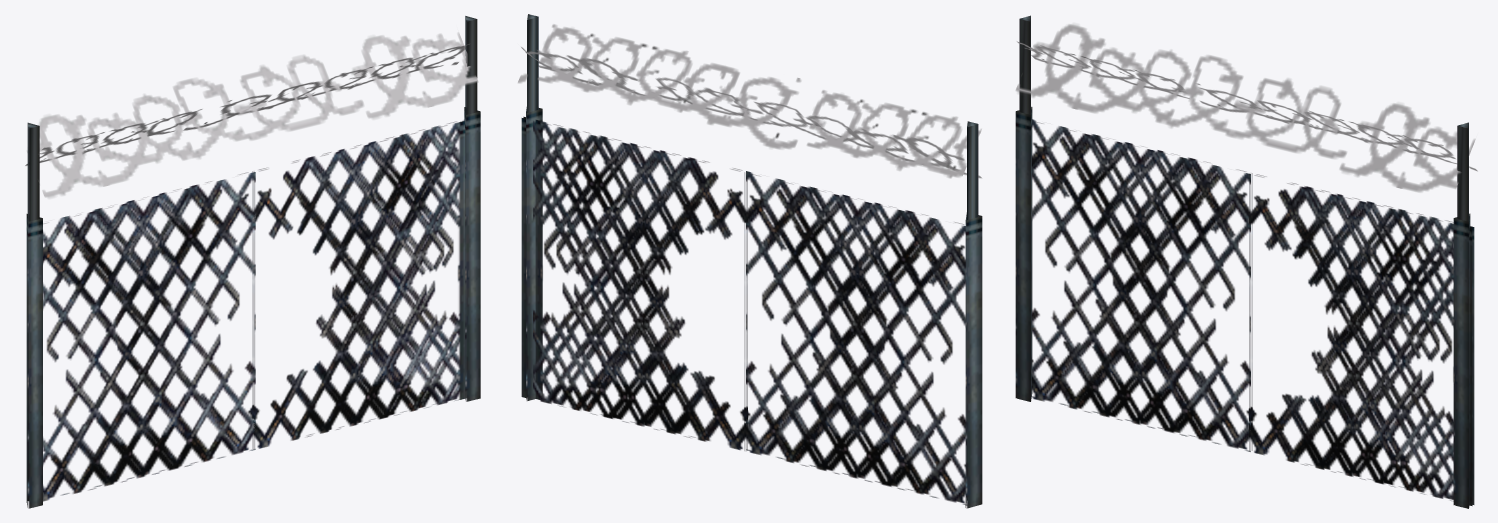
Rendered from Environment - Prop - Chain Link Fence 01 - Damaged - PMWallChn3_D.glb.
The picture shows the model from 3 angles, left to right: view 1: azimuth 30°, elevation 25°; view 2: azimuth 150°, elevation 25°; view 3: azimuth 330°, elevation 25°; orthographic projection.
Parts seen in each view (by area): view 1: PMWALLCHN3_D; view 2: PMWALLCHN3_D; view 3: PMWALLCHN3_D.
Boxes of the visible parts, bbox=[...] form: PMWALLCHN3_D: bbox=[25, 16, 480, 508]; PMWALLCHN3_D: bbox=[518, 14, 982, 508]; PMWALLCHN3_D: bbox=[1015, 15, 1477, 508].
Size of the model in its own units: 28.35 by 22.65 by 3.53.
2 materials, 2 textured.
